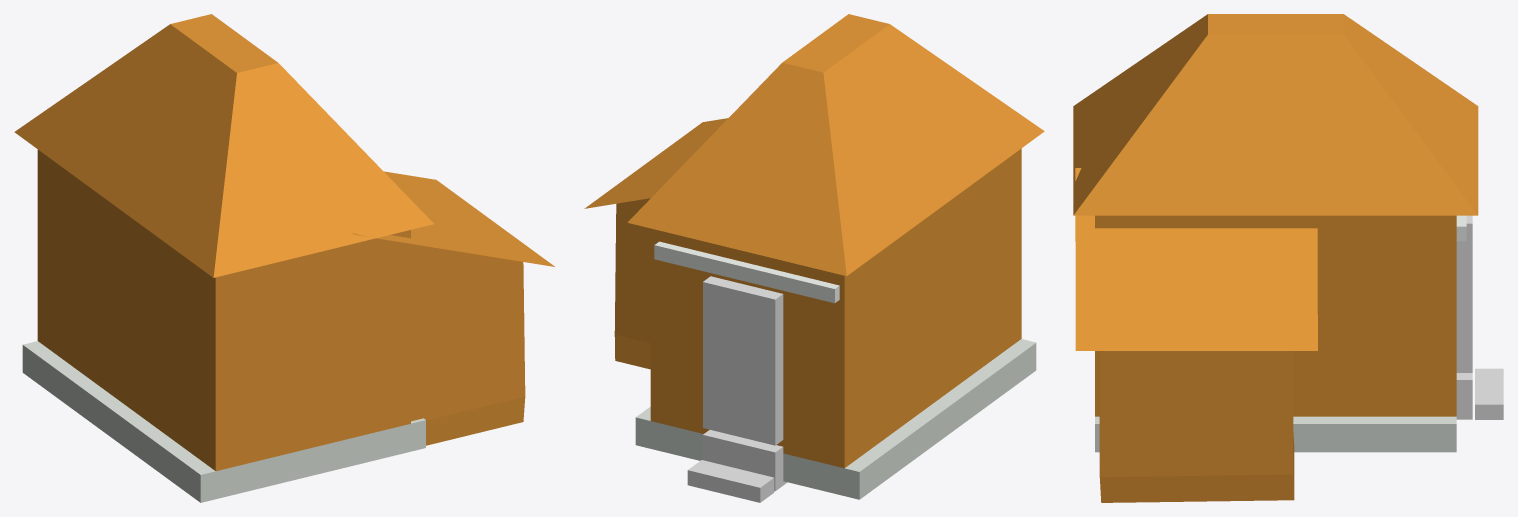
File: house1.glb
3 renders of one model, left to right at view 1: azimuth 30°, elevation 25°; view 2: azimuth 150°, elevation 25°; view 3: azimuth 270°, elevation 25°, orthographic. The views are drawn at different scales.
Parts seen in each view (by area): view 1: Cube.004, Cube.006; view 2: Cube.004, Cube, Cube.006, Cube.001, Cube.007, Cube.008; view 3: Cube.004, Cube.006, Cube, Cube.008, Cube.007.
Part boxes in pixels (<box>): Cube.004: <box>14,14,554,471</box>; Cube.006: <box>22,341,425,502</box>; Cube.004: <box>584,14,1044,468</box>; Cube: <box>703,276,783,445</box>; Cube.006: <box>635,339,1036,499</box>; Cube.001: <box>654,241,839,303</box>; Cube.007: <box>703,430,787,491</box>; Cube.008: <box>687,460,774,502</box>; Cube.004: <box>1073,14,1478,502</box>; Cube.006: <box>1095,416,1456,452</box>; Cube: <box>1456,215,1472,372</box>; Cube.008: <box>1475,368,1503,419</box>; Cube.007: <box>1456,373,1472,419</box>.
Bounding box in the file's own units: 3.54 × 3.64 × 3.76.
